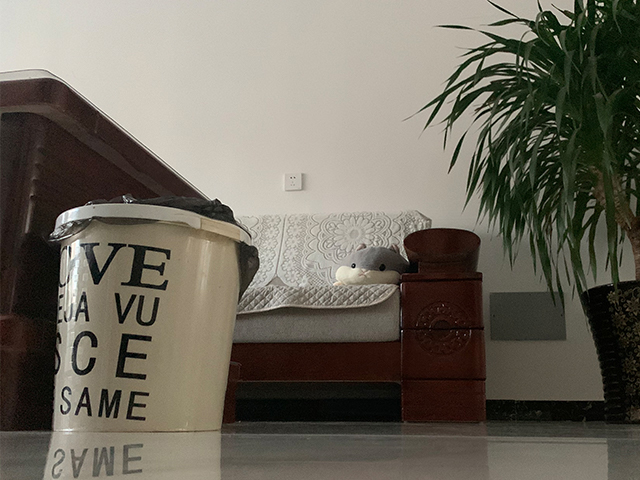sofa: (230, 208, 488, 425)
trashcan: (52, 202, 252, 434)
